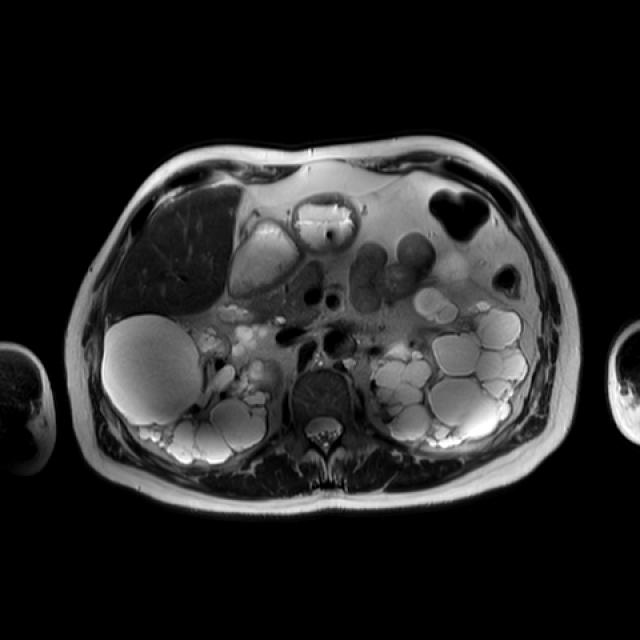sag: (99, 313, 283, 467)
sol: (369, 247, 531, 449)
